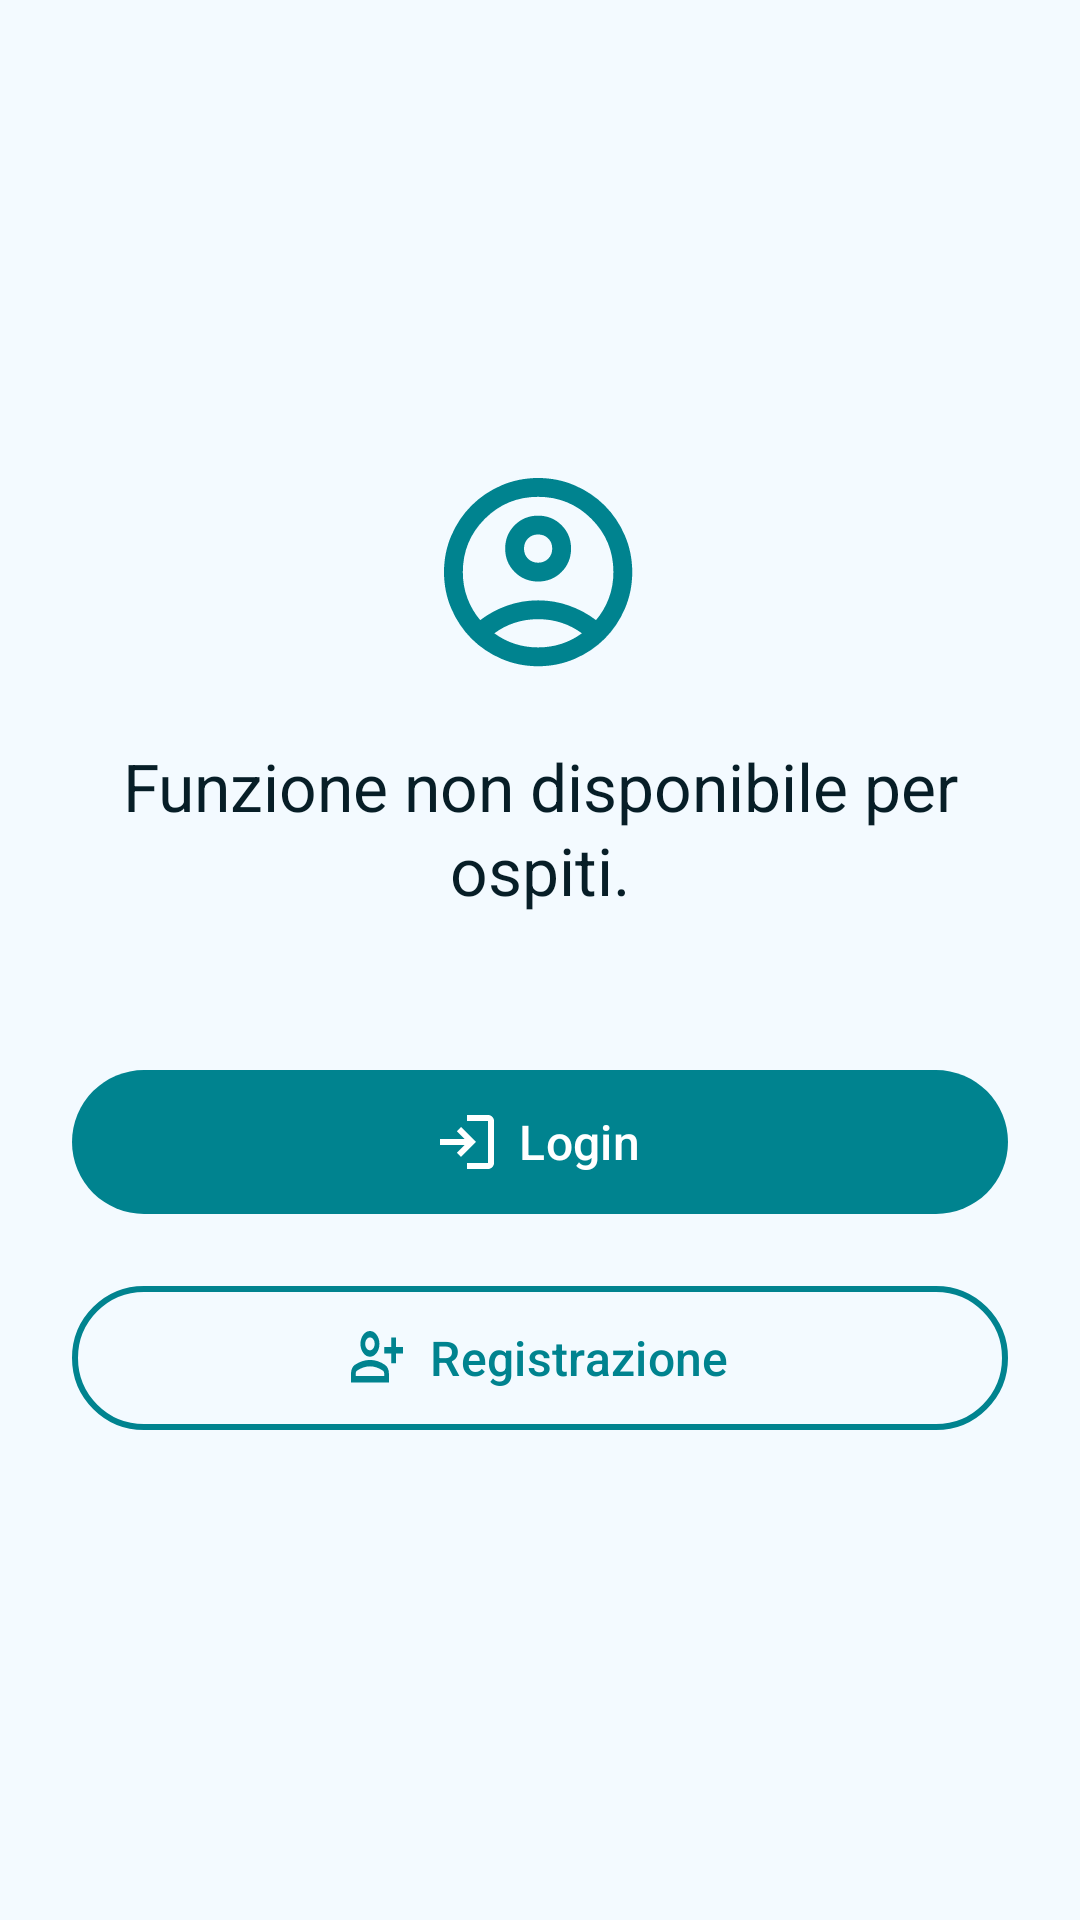

Icon bounding boxes for this 1080 × 1920 phone screenshot, format bbox(x1, y1, x2, y2):
icona ospite: bbox(444, 478, 633, 667)
